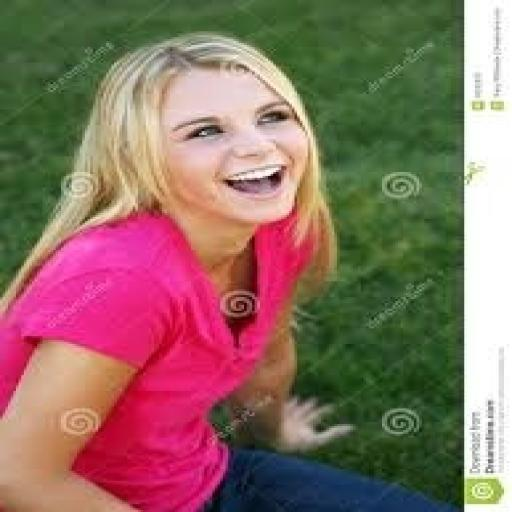laughing: (0, 27, 456, 509)
